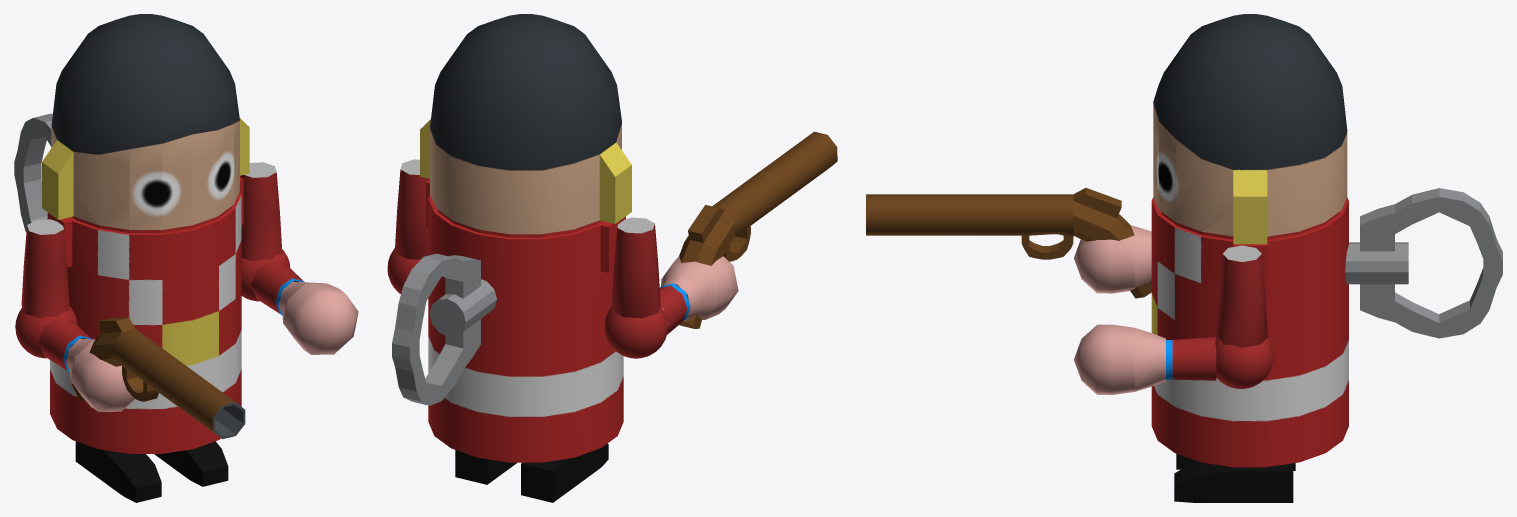
File: unit_gun.fbx
The picture shows the model from 3 angles, left to right: view 1: azimuth 30°, elevation 25°; view 2: azimuth 150°, elevation 25°; view 3: azimuth 270°, elevation 25°; orthographic projection. The views are drawn at different scales.
Visible parts, largest first — view 1: Sphere002, Cylinder001, Sphere004, Sphere003, Object003, Object009, Object005, Object001, Object004; view 2: Sphere002, Object001, Cylinder001, Sphere003, Object003, Object005, Object009, Object004, Sphere004; view 3: Sphere002, Cylinder001, Object001, Sphere004, Object009, Object004, Sphere003.
Boxes of the visible parts, left/top/right/bottom form: Sphere002: left=42, top=14, right=249, bottom=453; Cylinder001: left=72, top=317, right=245, bottom=439; Sphere004: left=241, top=249, right=358, bottom=354; Sphere003: left=15, top=306, right=143, bottom=411; Object003: left=21, top=219, right=69, bottom=318; Object009: left=240, top=162, right=282, bottom=260; Object005: left=75, top=441, right=161, bottom=502; Object001: left=14, top=113, right=52, bottom=232; Object004: left=154, top=441, right=228, bottom=486; Sphere002: left=420, top=14, right=631, bottom=462; Object001: left=392, top=253, right=496, bottom=405; Cylinder001: left=676, top=131, right=837, bottom=328; Sphere003: left=604, top=256, right=738, bottom=358; Object003: left=611, top=217, right=660, bottom=318; Object005: left=521, top=443, right=608, bottom=502; Object009: left=394, top=159, right=429, bottom=259; Object004: left=455, top=450, right=516, bottom=484; Sphere004: left=387, top=248, right=420, bottom=293; Sphere002: left=1151, top=14, right=1348, bottom=467; Cylinder001: left=866, top=188, right=1151, bottom=298; Object001: left=1345, top=188, right=1502, bottom=338; Sphere004: left=1074, top=324, right=1273, bottom=394; Object009: left=1216, top=245, right=1267, bottom=347; Object004: left=1174, top=461, right=1293, bottom=502; Sphere003: left=1074, top=225, right=1151, bottom=293.
Size of the model in its own units: 74.14 by 145 by 115.
Materials: 8 (8 with a texture image).
